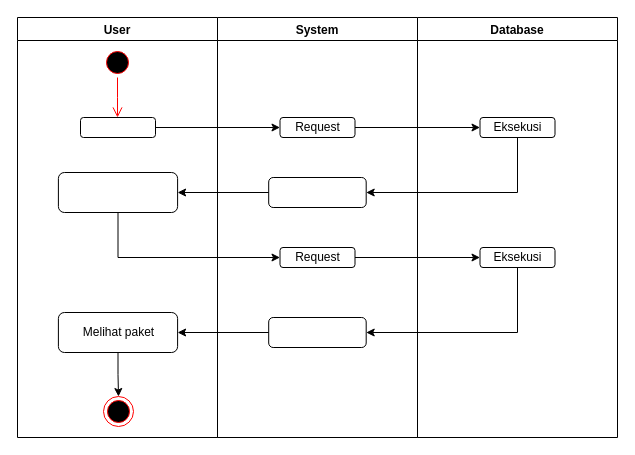
Some shapes in this 635 by 455 pixel diagram are drawn without their labels. Here are the shapes that lost their labels. From the top down, the centre of each, then its label:
At (x=118, y=127): "Login".
At (x=117, y=192): "Memilih menu Shop".
At (x=317, y=192): "Tampil Beranda".
At (x=317, y=332): "Menu Shop".
